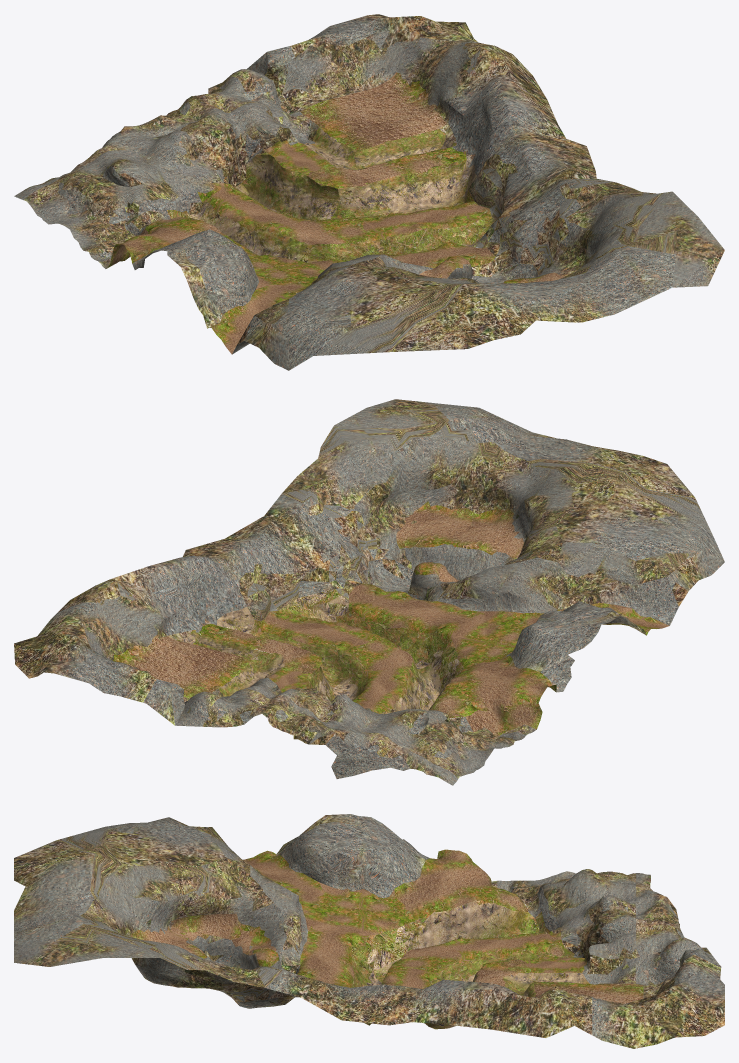
File: Stage1_1Segment.fbx
3 views of the same model, one above another, from view 1: azimuth 30°, elevation 25°; view 2: azimuth 150°, elevation 25°; view 3: azimuth 270°, elevation 25° (orthographic). The views are drawn at different scales.
Visible parts, largest first — view 1: mqo_mesh; view 2: mqo_mesh; view 3: mqo_mesh.
Boxes of the visible parts, x1,y1,x2,y2 form: mqo_mesh: (14,14,724,370); mqo_mesh: (14,399,724,785); mqo_mesh: (14,814,724,1048).
Bounding box in the file's own units: 1577 × 437 × 2193.
